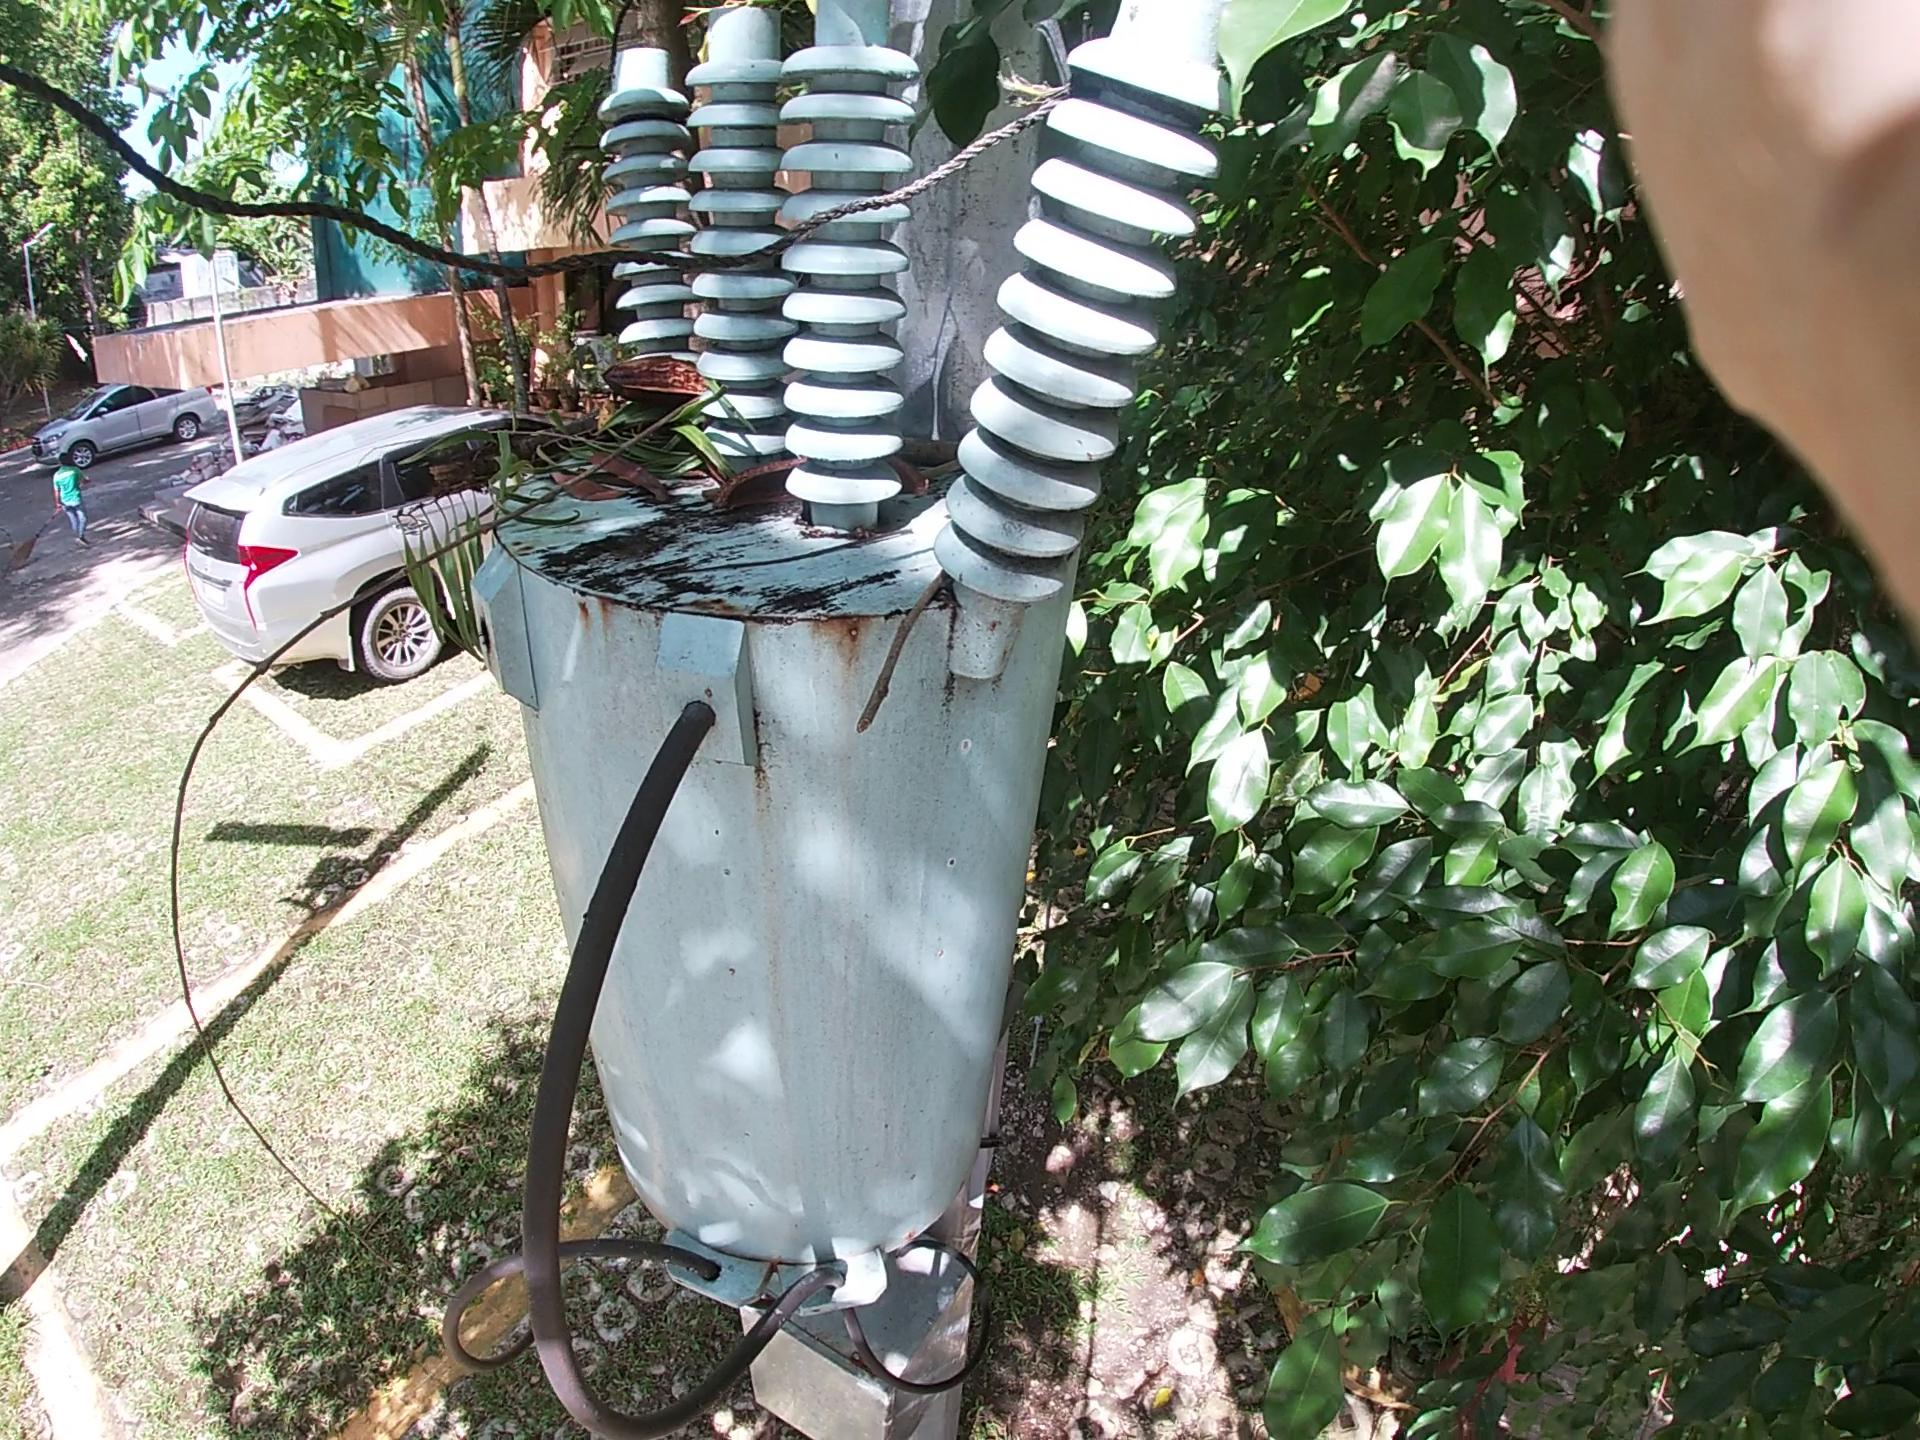branch with leaves: (399, 275, 909, 611)
leaf: (494, 424, 703, 522)
mahogany fruit: (565, 266, 788, 440), (674, 437, 884, 575)
tree branch: (139, 383, 711, 1054), (801, 498, 939, 790)
